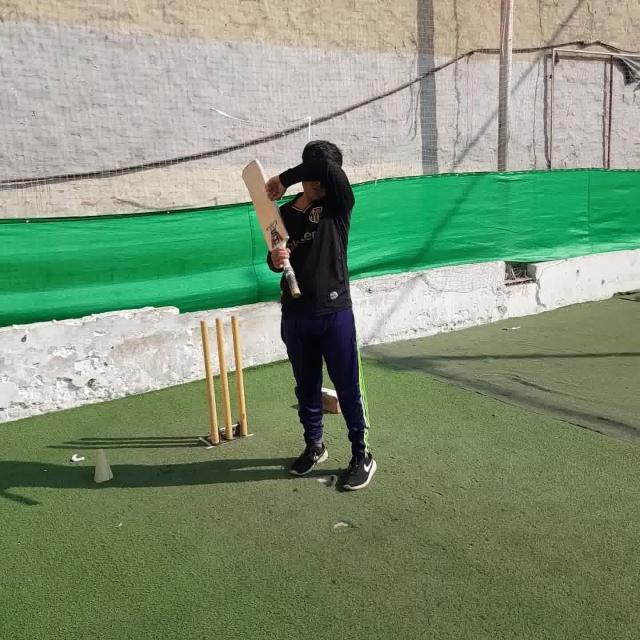bat: (242, 160, 302, 298)
